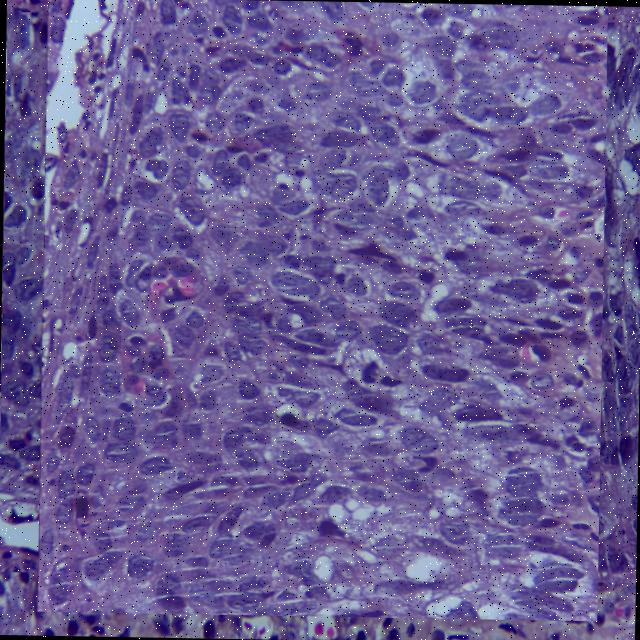Multiple Nucleol: (100, 316, 118, 351)
Nuclear Hyperchromatism: (38, 0, 603, 619)
